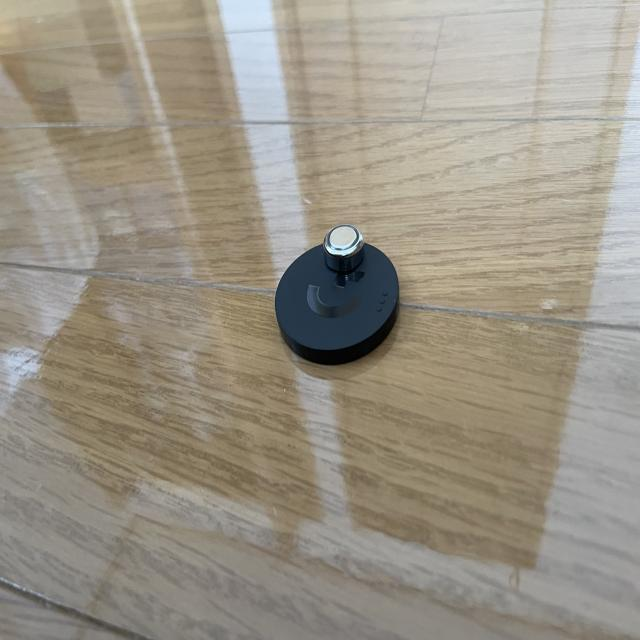COIN: (322, 224, 364, 274)
